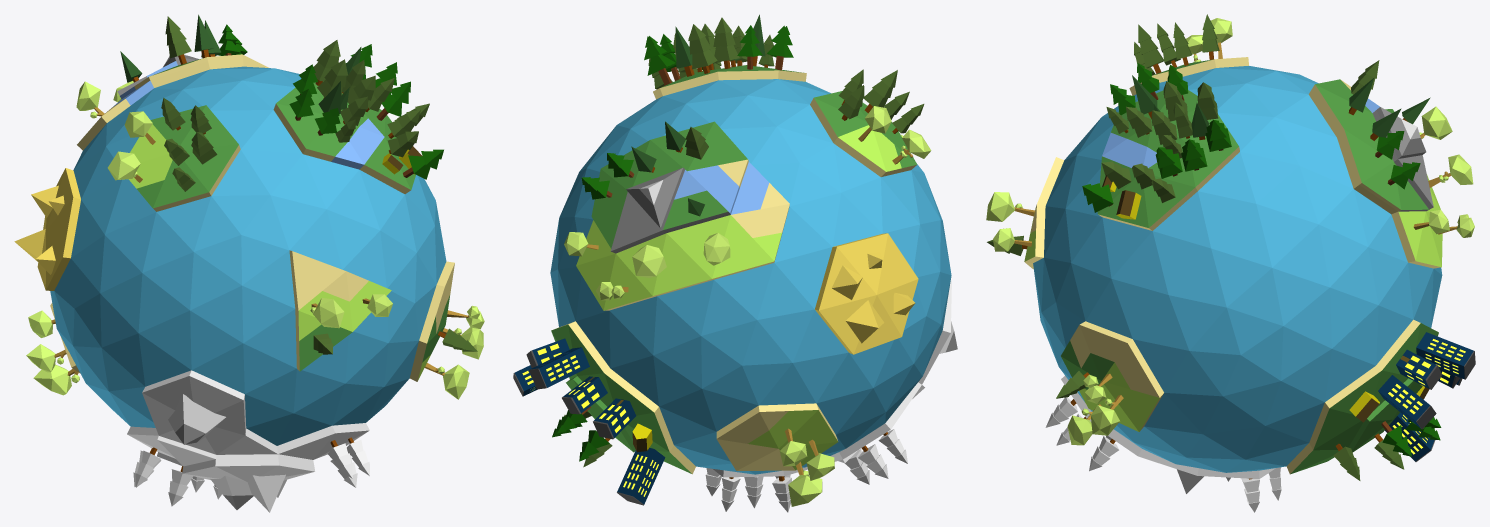
The model's file is earth.glb.
The picture shows the model from 3 angles, left to right: view 1: azimuth 30°, elevation 25°; view 2: azimuth 150°, elevation 25°; view 3: azimuth 270°, elevation 25°; orthographic projection. The views are drawn at different scales.
Parts seen in each view (by area): view 1: Icosphere; view 2: Icosphere; view 3: Icosphere.
Boxes of the visible parts, x1=… form: Icosphere: x1=14, y1=14, x2=484, y2=512; Icosphere: x1=513, y1=14, x2=957, y2=512; Icosphere: x1=986, y1=14, x2=1475, y2=512.
Bounding box in the file's own units: 52.32 × 61.38 × 59.74.
